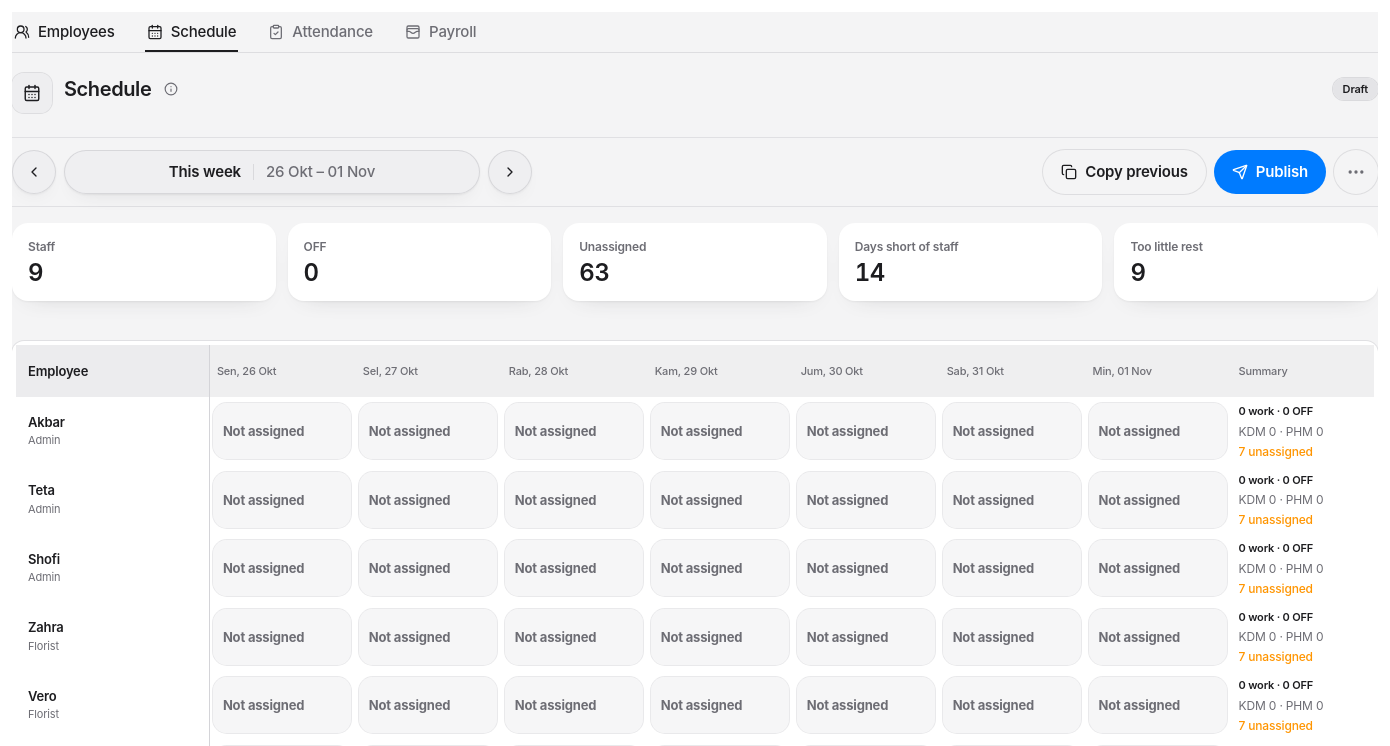
Test: HR Scheduling UI › shows mobile summaries in a two-column grid (no sideways scroll) and secondary actions inside More
Expected: the button "Export PDF" is not shown
Click the button named "More scheduling actions".
click(1356, 172)  # box x1=1334 y1=150 x2=1378 y2=194
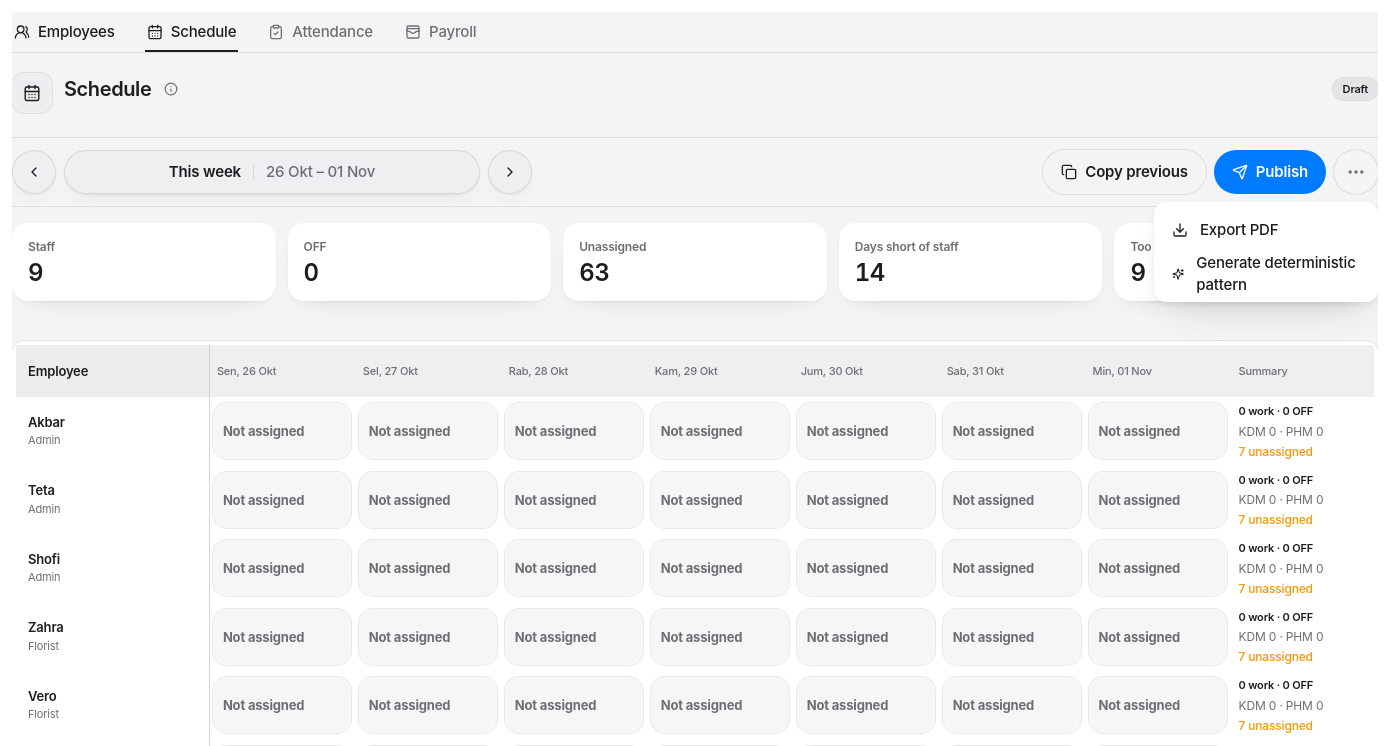
Now the button "Export PDF" is shown, box x1=1160 y1=208 x2=1372 y2=252
Now the button "Generate deterministic pattern" is shown, box x1=1160 y1=252 x2=1372 y2=296
